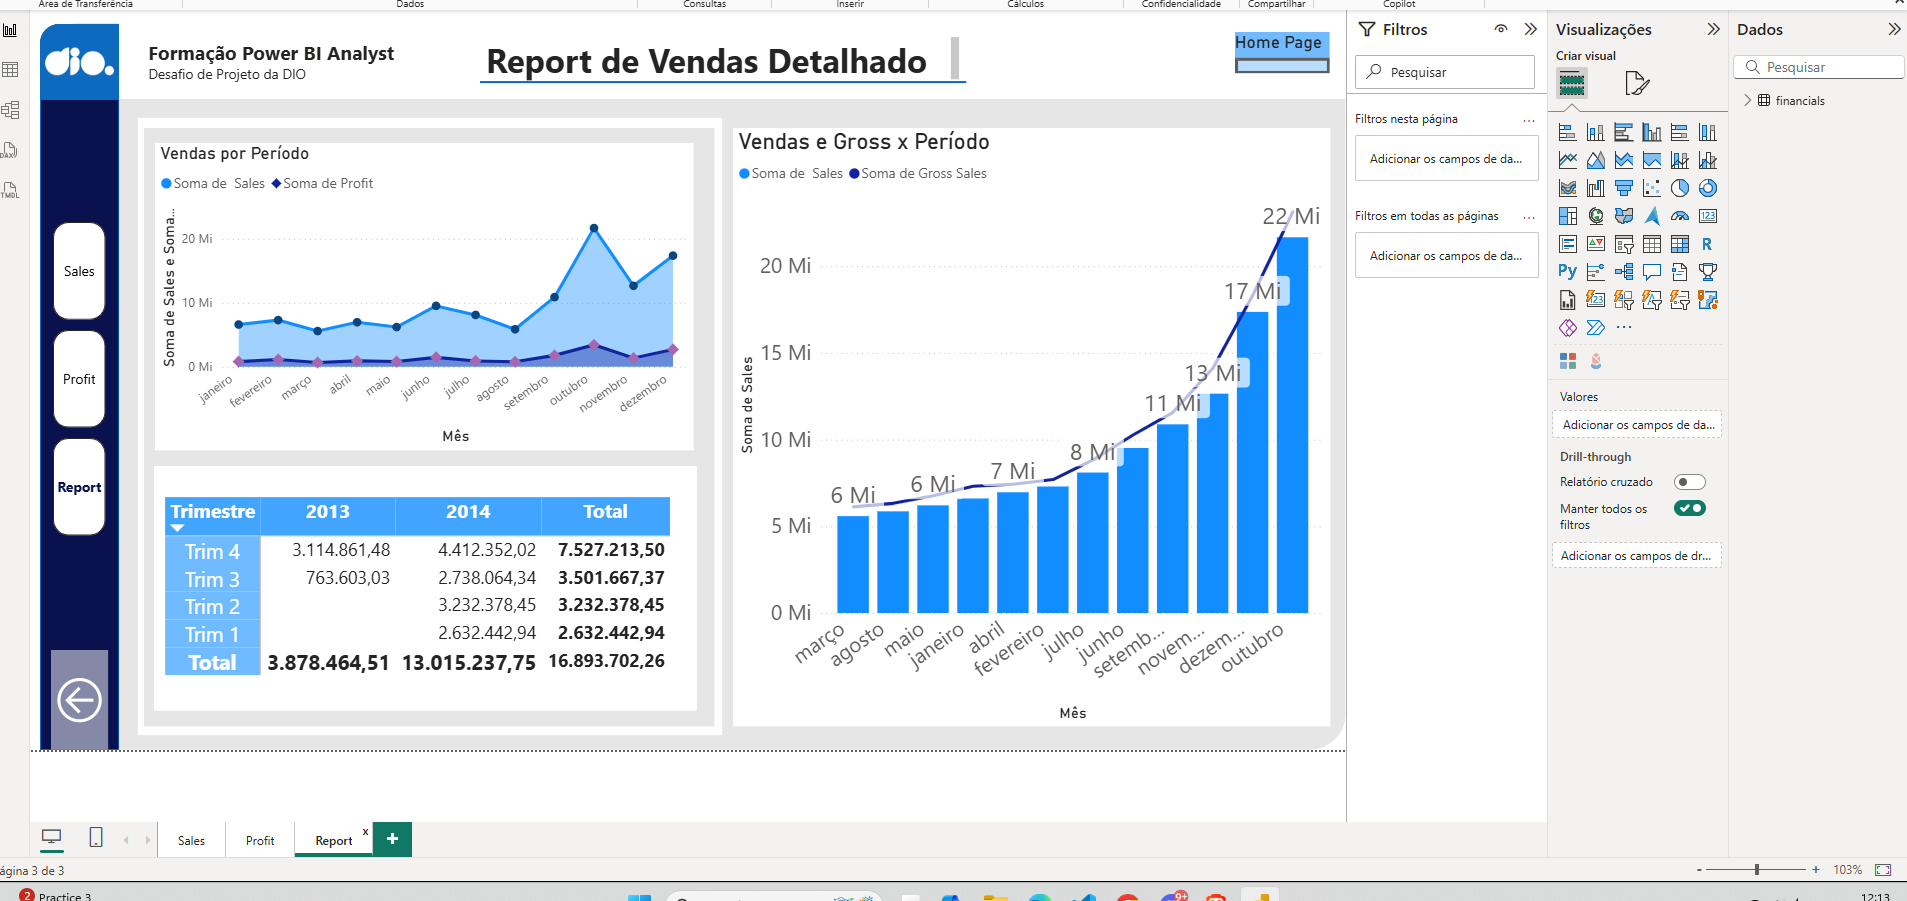

This screenshot's page, from the dashboard's own definition file:
{"tool":"powerbi","page":{"name":"Report","canvas":[1280,720],"ordinal":2},"visuals":[{"type":"group","id":"g1","title":"Layout","box":[10,12.8,1270,707],"z":0},{"type":"shape","box":[10,12.8,1270,707],"z":0,"group":"g1"},{"type":"shape","box":[437.3,51.5,473,37.1],"z":0,"group":"g3"},{"type":"shape","box":[103.6,103.6,569.9,601.9],"z":0,"group":"g2"},{"type":"shape","box":[10.1,13.4,77.2,706.3],"z":1000,"group":"g1"},{"type":"textbox","box":[438.7,21.3,470.2,52.2],"z":1000,"group":"g3"},{"type":"lineClusteredColumnComboChart","title":"Vendas e Gross x Período","fields":{"Category":["financials.Date.Variation.Hierarquia de datas.Mês"],"Y":["Sum(financials. Sales)"],"Y2":["Sum(financials.Gross Sales)"]},"box":[684.2,114.3,580.6,582.1],"z":1000},{"type":"shape","box":[110.3,114.6,554.7,582.1],"z":1000,"group":"g2"},{"type":"shape","box":[10.1,13.4,77.2,73.8],"z":2000,"group":"g1"},{"type":"group","id":"g2","title":"Detalhes venda x profit","box":[103.6,103.6,569.9,601.9],"z":2000},{"type":"shape","box":[120.1,443.5,528.4,238.2],"z":2000,"group":"g2"},{"type":"image","title":"logo_dio","box":[10.1,18.4,77.2,62.1],"z":3000,"group":"g1"},{"type":"textbox","title":"Título do report","box":[109.7,22.9,377.9,64],"z":3000},{"type":"areaChart","title":"Vendas por Período","fields":{"Category":["financials.Date.Variation.Hierarquia de datas.Trimestre","financials.Date.Variation.Hierarquia de datas.Mês"],"Y":["Sum(financials. Sales)","Sum(financials.Profit)"]},"box":[120.9,128.6,524.2,298.7],"z":3000,"group":"g2"},{"type":"shape","box":[87,12.8,1193.1,74.1],"z":4000,"group":"g1"},{"type":"group","id":"g3","title":"Sales report","box":[437.3,21.3,472.4,67],"z":4000},{"type":"pivotTable","fields":{"Columns":["financials.Date.Variation.Hierarquia de datas.Ano"],"Rows":["financials.Date.Variation.Hierarquia de datas.Trimestre"],"Values":["Sum(financials.Profit)"]},"box":[126,468.4,509.5,189.9],"z":4000,"group":"g2"},{"type":"actionButton","box":[20.6,622.4,55.6,96.9],"z":6000},{"type":"actionButton","title":"Home Page","box":[1172,21.4,92.4,39.9],"z":6001},{"type":"pageNavigator","box":[22.4,206.2,51.6,306.4],"z":6002}]}

Visuals, with their boxes on the page's 1280x720 design canvas (x1, y1, x2, y2). These are canvas units, not pixel positions in the 1907x901 screenshot, which may show the page scaled, cropped or inside an application window:
"Layout" group: <box>10,13,1280,720</box>
shape: <box>10,13,1280,720</box>
shape: <box>437,52,910,89</box>
shape: <box>104,104,674,706</box>
shape: <box>10,13,87,720</box>
textbox: <box>439,21,909,74</box>
"Vendas e Gross x Período" lineClusteredColumnComboChart: <box>684,114,1265,696</box>
shape: <box>110,115,665,697</box>
shape: <box>10,13,87,87</box>
"Detalhes venda x profit" group: <box>104,104,674,706</box>
shape: <box>120,444,648,682</box>
"logo_dio" image: <box>10,18,87,80</box>
"Título do report" textbox: <box>110,23,488,87</box>
"Vendas por Período" areaChart: <box>121,129,645,427</box>
shape: <box>87,13,1280,87</box>
"Sales report" group: <box>437,21,910,88</box>
pivotTable - financials.Date.Variation.Hierarquia de datas.Ano x financials.Date.Variation.Hierarquia de datas.Trimestre: <box>126,468,636,658</box>
actionButton: <box>21,622,76,719</box>
"Home Page" actionButton: <box>1172,21,1264,61</box>
pageNavigator: <box>22,206,74,513</box>
